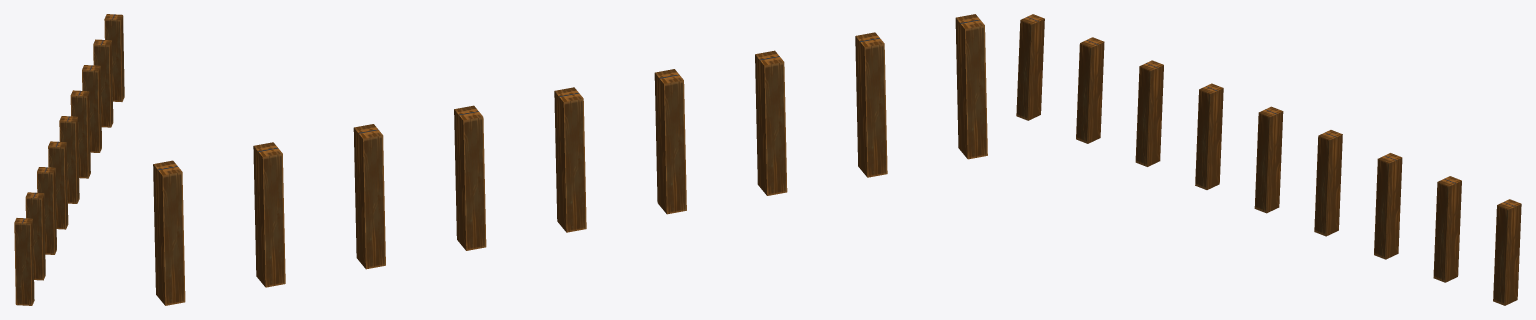
The picture shows the model from 3 angles, left to right: view 1: azimuth 30°, elevation 25°; view 2: azimuth 150°, elevation 25°; view 3: azimuth 270°, elevation 25°; orthographic projection. The views are drawn at different scales.
Visible parts, largest first — view 1: Cube.2074; view 2: Cube.2074; view 3: Cube.2074.
Boxes of the visible parts, x1=… form: Cube.2074: x1=14, y1=14, x2=124, y2=305; Cube.2074: x1=153, y1=14, x2=987, y2=305; Cube.2074: x1=1016, y1=14, x2=1521, y2=305.
Size of the model in its own units: 386 by 114 by 459.
1 material, 1 textured.
